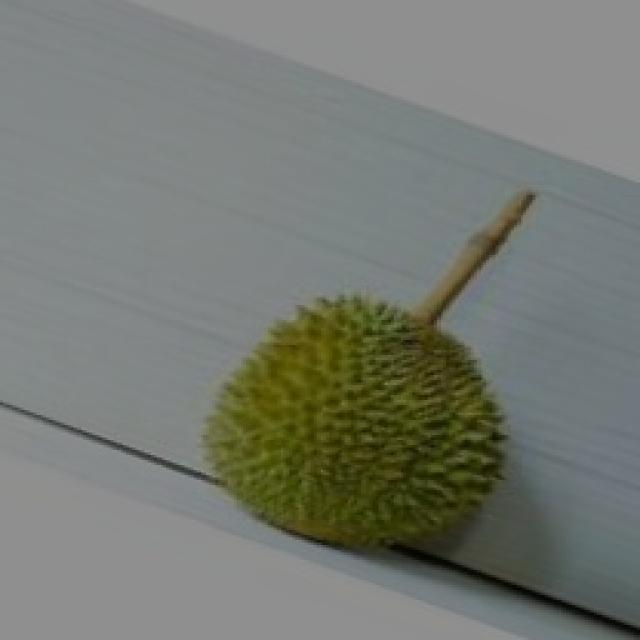fruit: (145, 247, 557, 605)
